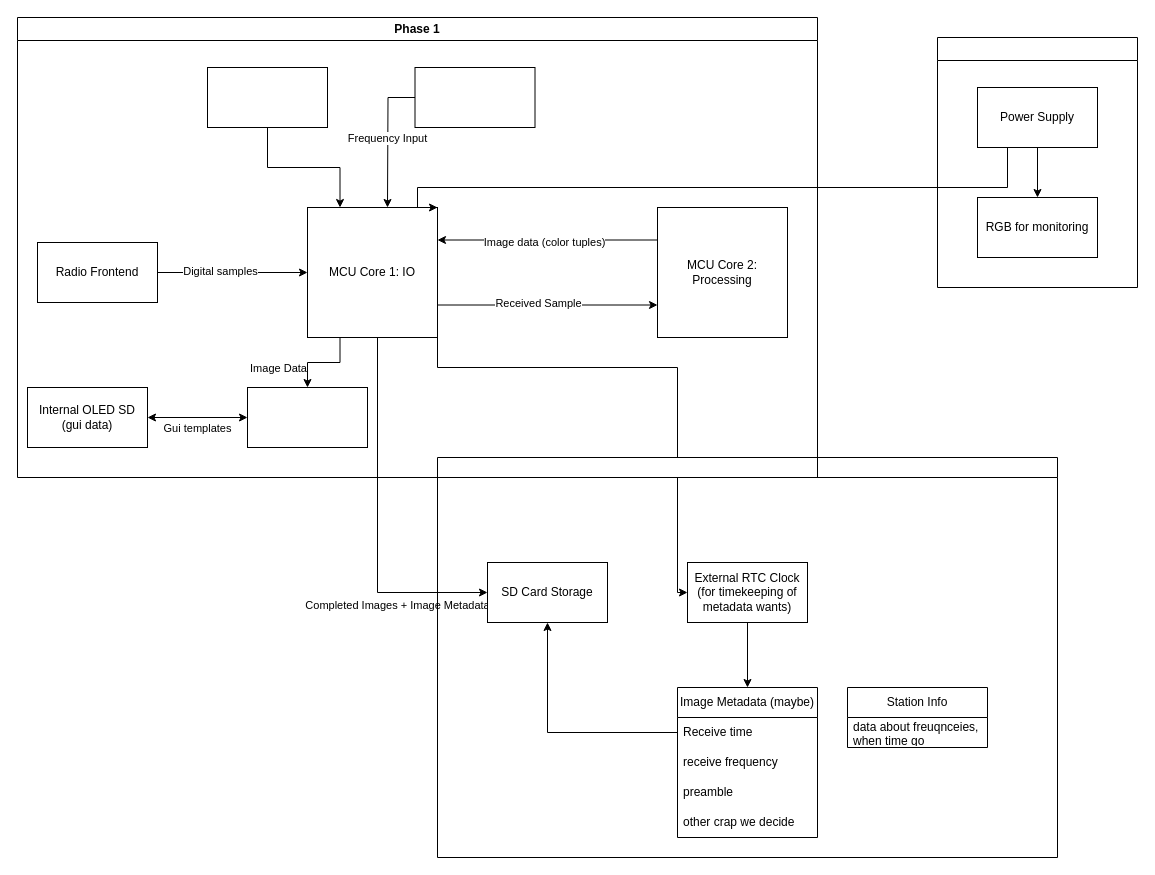
This 1155x875 diagram has some shape labels left out. Each missing label, with the centre of its shape:
Keypad for frequency Enter: pixel 474 97
OLED: pixel 307 417
Phase 2: pixel 747 657
Phase 2 V2: pixel 1037 162
Rotary Encoder (input control): pixel 267 97
